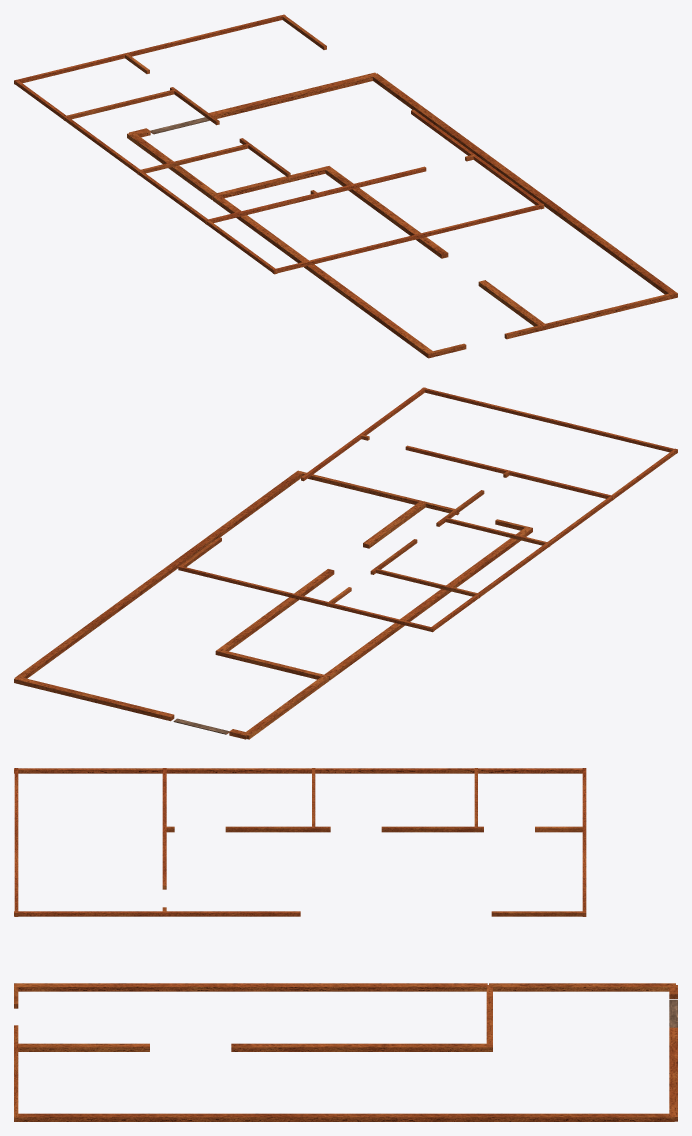
File: Trim.fbx
The picture shows the model from 3 angles, top to bottom: view 1: azimuth 30°, elevation 25°; view 2: azimuth 150°, elevation 25°; view 3: azimuth 270°, elevation 25°; orthographic projection. The views are drawn at different scales.
Parts seen in each view (by area): view 1: Trim; view 2: Trim; view 3: Trim.
Part boxes in pixels (x1,y1,x2,y2): Trim: [14, 14, 677, 358]; Trim: [14, 387, 677, 739]; Trim: [14, 768, 677, 1121].
Bounding box in the file's own units: 2285 × 677 × 2962.
